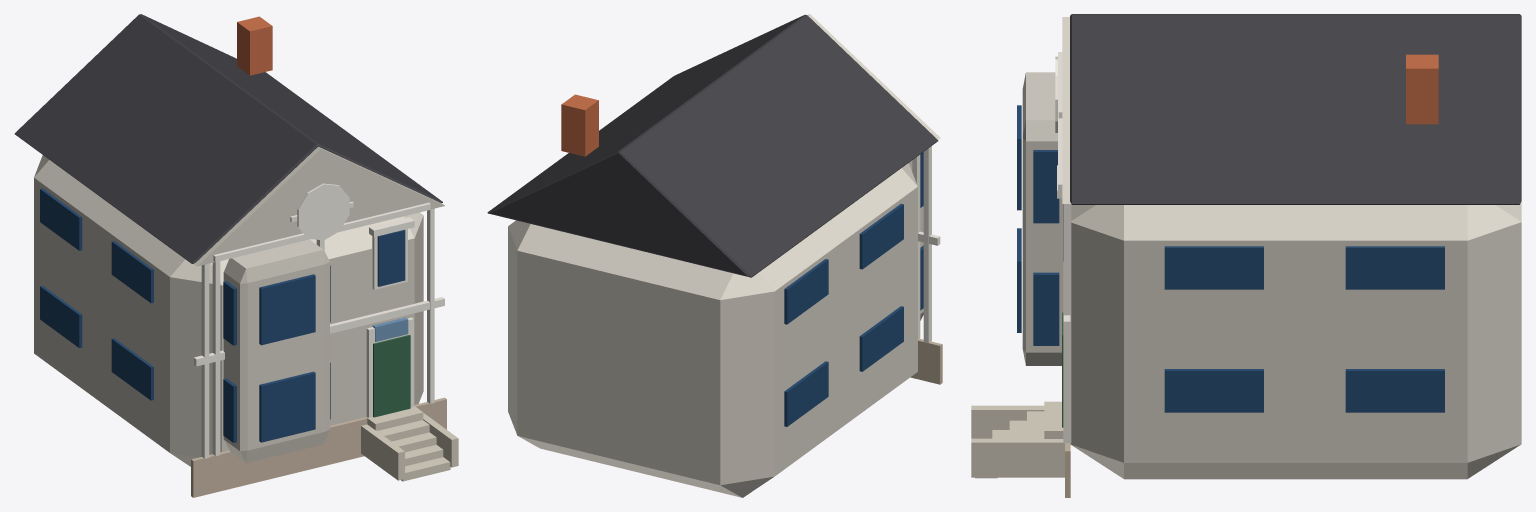
The model's file is stick_w9_gable.glb.
3 views of the same model, side by side, from view 1: azimuth 30°, elevation 25°; view 2: azimuth 150°, elevation 25°; view 3: azimuth 270°, elevation 25° (orthographic). The views are drawn at different scales.
Visible parts, largest first — view 1: roof, walls, bay, roof.001, bsmt, bw, bw.001, door, fan, chim, stick.003, stick (+21 smaller); view 2: walls, roof, chim, stick.003, sb.002, sb, sb.004, sb.006, bsmt, stick, roof.001; view 3: walls, roof, bay, sb.001, sb.003, sb.005, sb.007, cheek.001, chim, stick.002, bws.001, bws.003 (+3 smaller).
Part boxes in pixels (x1,y1,x2,y2): roof: [14, 14, 442, 263]; walls: [34, 155, 423, 466]; bay: [223, 239, 329, 463]; roof.001: [193, 146, 444, 266]; bsmt: [191, 397, 446, 497]; bw: [259, 371, 315, 442]; bw.001: [259, 274, 315, 345]; door: [373, 335, 410, 417]; fan: [297, 183, 349, 240]; chim: [237, 16, 272, 75]; stick.003: [201, 263, 209, 458]; stick: [212, 261, 220, 455]; walls: [508, 163, 917, 497]; roof: [487, 14, 938, 277]; chim: [561, 94, 598, 156]; stick.003: [923, 146, 931, 343]; sb.002: [784, 361, 828, 426]; sb: [859, 306, 903, 371]; sb.004: [859, 203, 903, 269]; sb.006: [784, 259, 828, 324]; bsmt: [910, 338, 942, 384]; stick: [912, 154, 920, 339]; roof.001: [807, 14, 940, 139]; walls: [1070, 201, 1521, 479]; roof: [1070, 14, 1521, 204]; bay: [1022, 72, 1063, 365]; sb.001: [1164, 369, 1263, 412]; sb.003: [1345, 369, 1444, 412]; sb.005: [1164, 246, 1263, 289]; sb.007: [1345, 246, 1444, 289]; cheek.001: [971, 438, 1064, 477]; chim: [1406, 54, 1438, 124]; stick.002: [1063, 204, 1071, 443]; bws.001: [1033, 272, 1059, 345]; bws.003: [1033, 150, 1059, 223].
Bounding box in the file's own units: 9.2 × 10.88 × 13.4.
